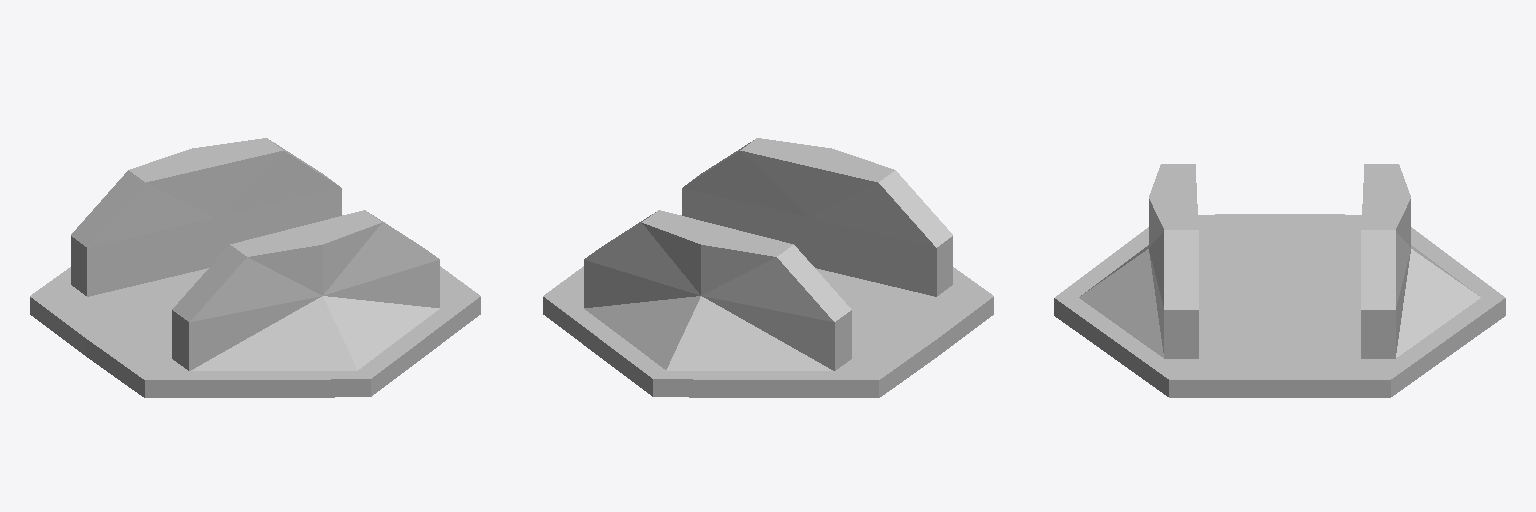
File: HomeFudge_Base.obj
3 views of the same model, side by side, from view 1: azimuth 30°, elevation 25°; view 2: azimuth 150°, elevation 25°; view 3: azimuth 270°, elevation 25° (orthographic).
Visible parts, largest first — view 1: GattlingGun:Platform; view 2: GattlingGun:Platform; view 3: GattlingGun:Platform.
Part boxes in pixels (bbox=[...]): GattlingGun:Platform: bbox=[30, 138, 480, 397]; GattlingGun:Platform: bbox=[543, 138, 993, 397]; GattlingGun:Platform: bbox=[1054, 164, 1505, 397].
Size of the model in its own units: 6.04 by 2.01 by 6.95.